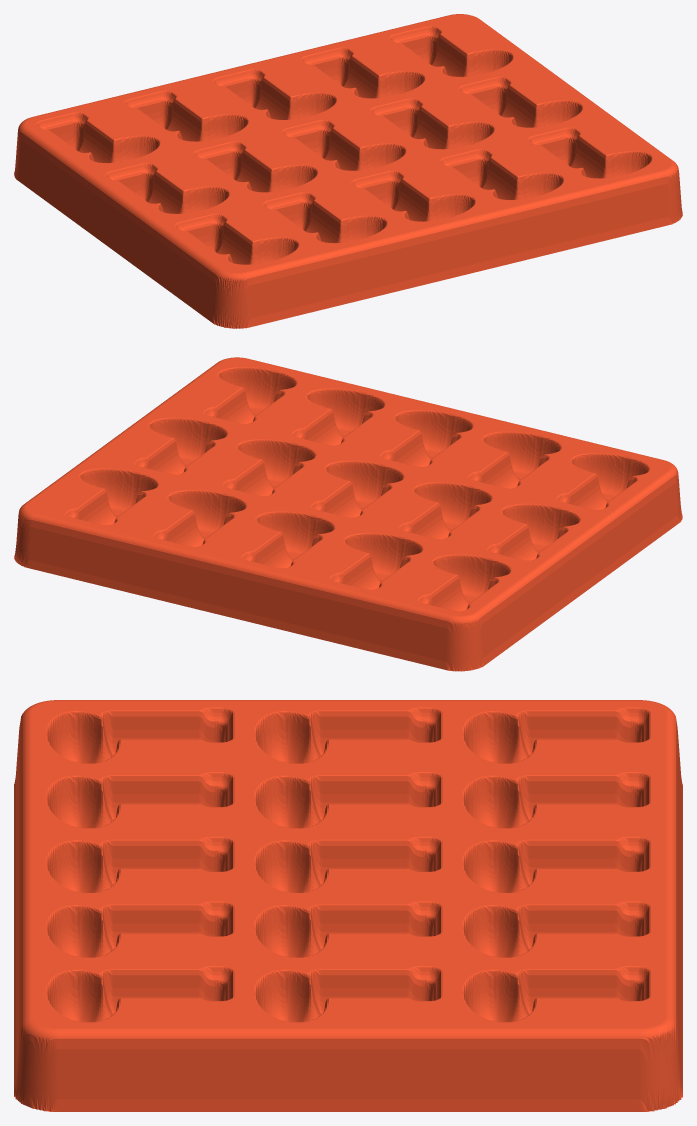
Rendered from mold.glb.
The picture shows the model from 3 angles, top to bottom: view 1: azimuth 30°, elevation 25°; view 2: azimuth 150°, elevation 25°; view 3: azimuth 270°, elevation 25°; orthographic projection. The views are drawn at different scales.
Parts seen in each view (by area): view 1: geometry_0; view 2: geometry_0; view 3: geometry_0.
Part boxes in pixels (x1=…): geometry_0: x1=14, y1=14, x2=682, y2=328; geometry_0: x1=14, y1=357, x2=682, y2=671; geometry_0: x1=14, y1=700, x2=682, y2=1111.
Size of the model in its own units: 0.1684 by 0.0175 by 0.1392.
